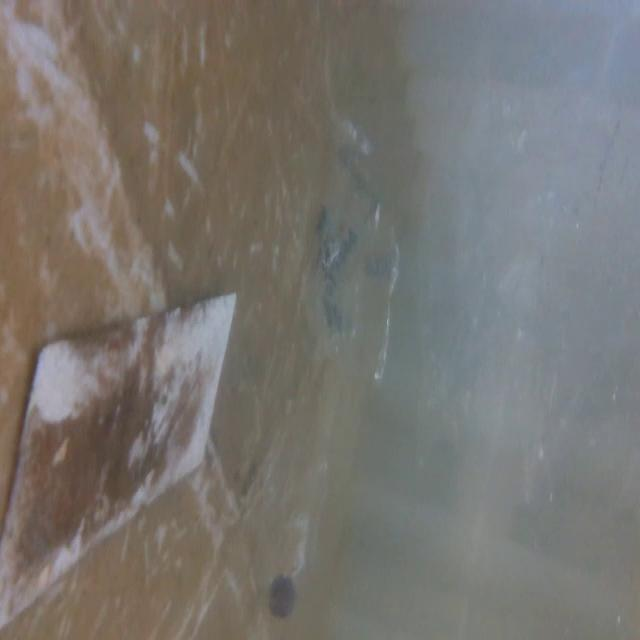metal: (0, 287, 241, 633)
plastic bags: (406, 66, 640, 510), (310, 109, 406, 394)
plastic bottle: (266, 420, 341, 625)
